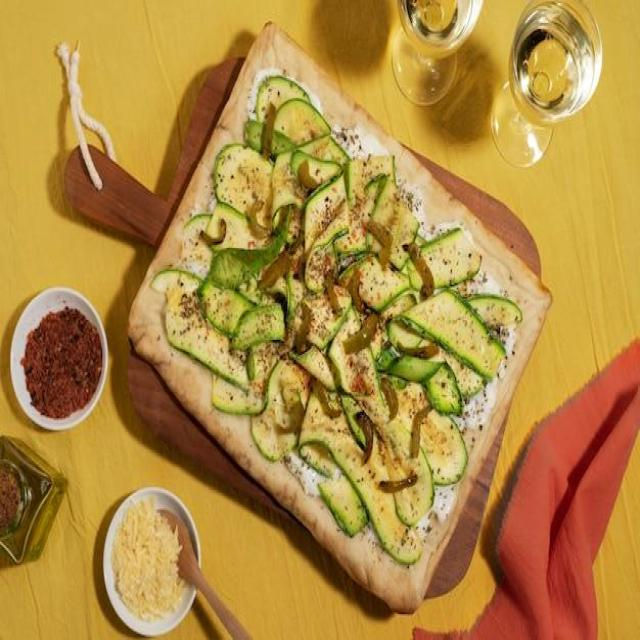pizza: (127, 22, 552, 616)
